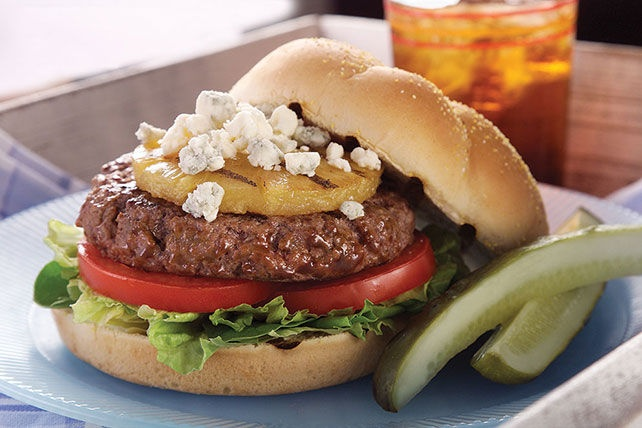background: (32, 0, 642, 275)
